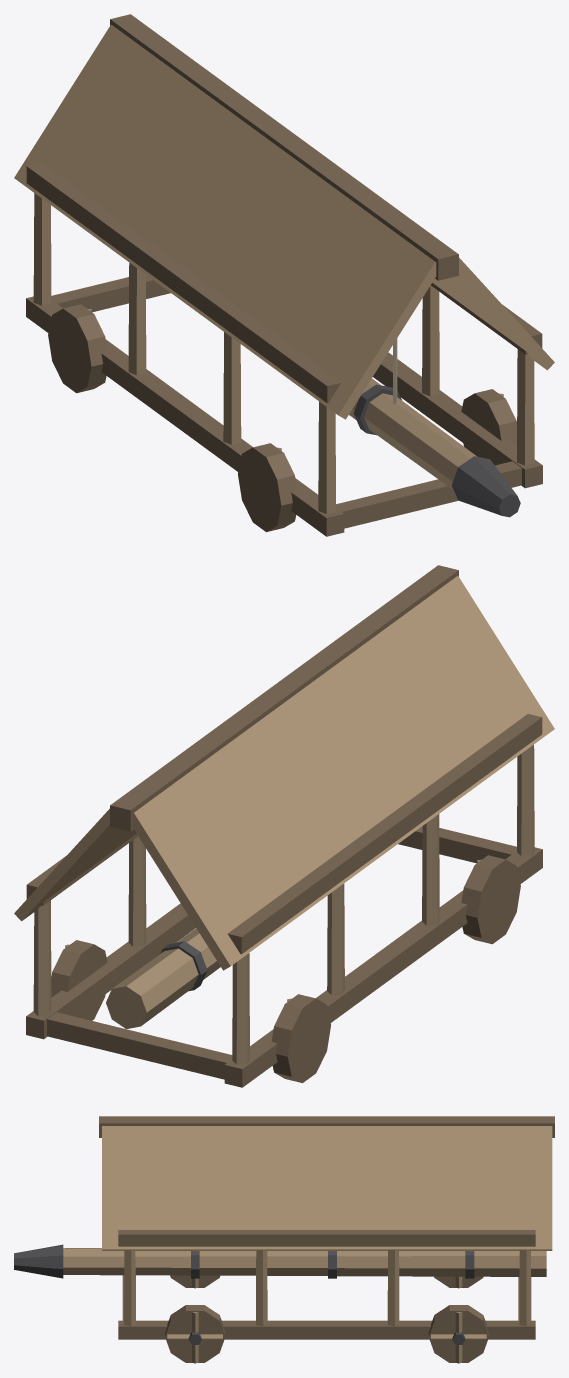
File: ram.glb
3 renders of one model, top to bottom at view 1: azimuth 30°, elevation 25°; view 2: azimuth 150°, elevation 25°; view 3: azimuth 270°, elevation 25°, orthographic. The views are drawn at different scales.
Parts seen in each view (by area): view 1: Shed, Beam, Wheel_0, Wheel_2, Wheel_3; view 2: Shed, Beam, Wheel_2, Wheel_0, Wheel_1; view 3: Shed, Beam, Wheel_3, Wheel_1, Wheel_2, Wheel_0.
Boxes of the visible parts, x1,y1,x2,y2 form: Shed: (14,14,554,536); Beam: (349,338,520,517); Wheel_0: (48,304,107,393); Wheel_2: (238,443,297,532); Wheel_3: (461,389,516,457); Shed: (14,565,554,1087); Beam: (106,928,220,1028); Wheel_2: (461,855,520,944); Wheel_0: (271,994,330,1083); Wheel_1: (51,940,107,1020); Shed: (99,1116,554,1339); Beam: (14,1244,546,1278); Wheel_3: (165,1305,225,1363); Wheel_1: (428,1305,488,1363); Wheel_2: (170,1275,220,1288); Wheel_0: (434,1276,483,1288).
Size of the model in its own units: 3.62 by 4.07 by 9.85.
